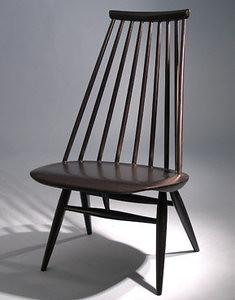chair: (30, 9, 201, 296)
